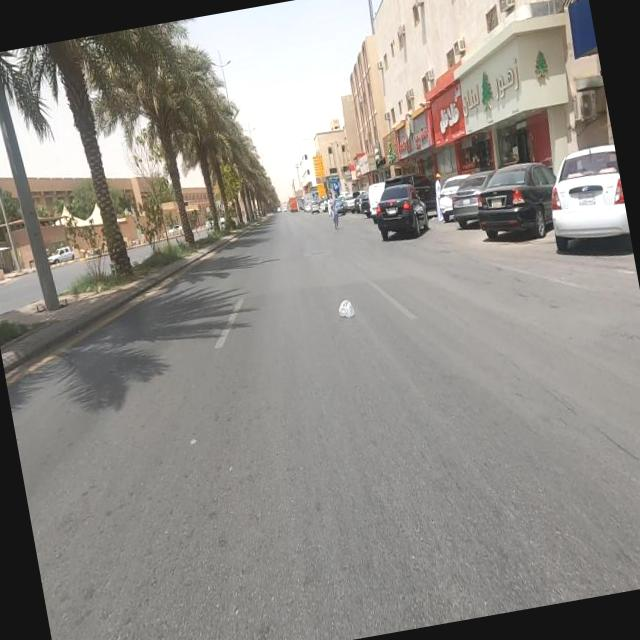debris: (301, 260, 385, 358)
